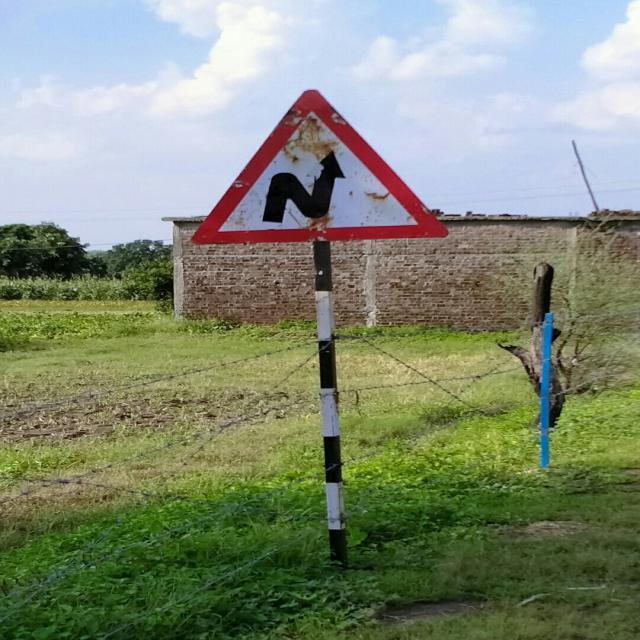right reverse bend: (182, 85, 449, 241)
